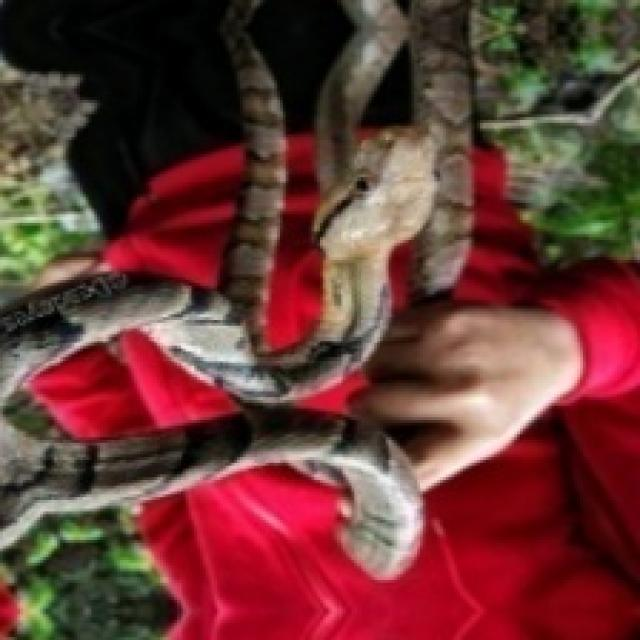dog-toothed cat snake: (0, 0, 469, 569)
